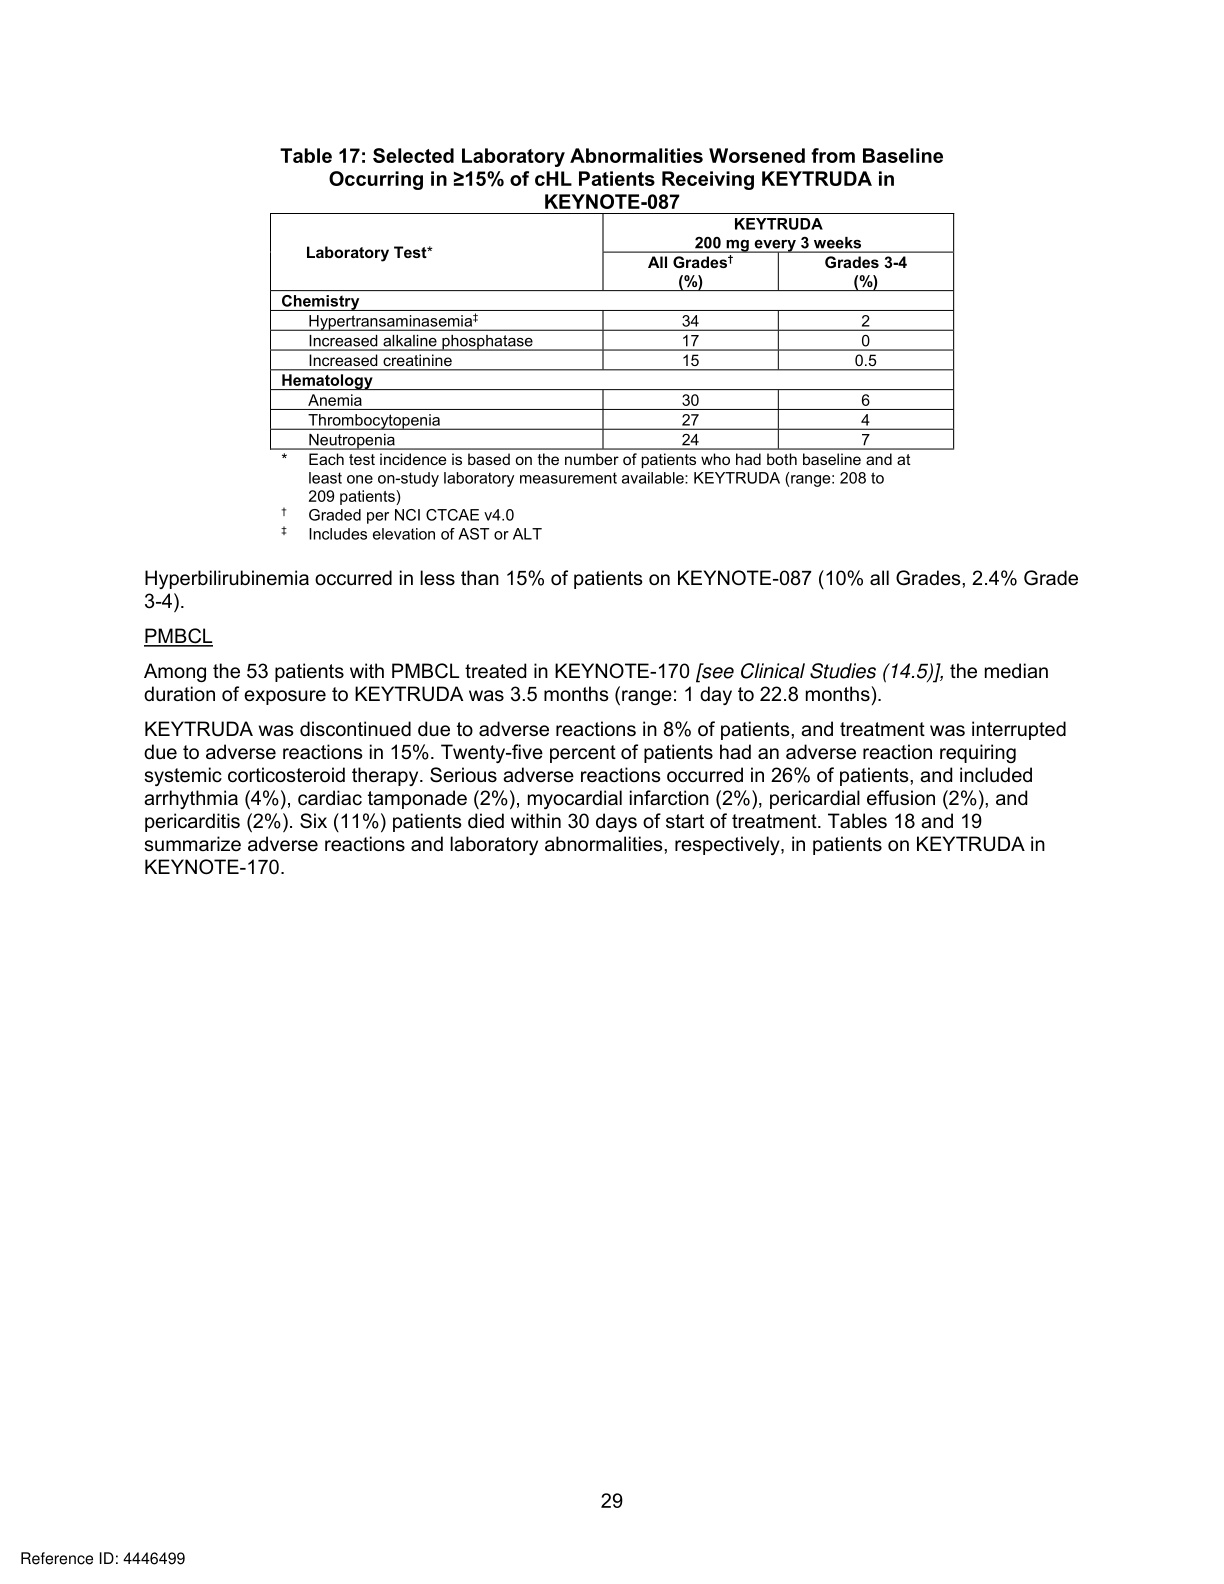merged_cells: (269, 212, 955, 451)
